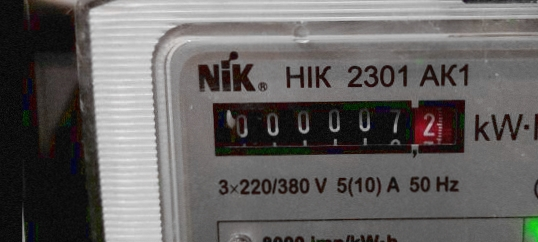0: (294, 108, 312, 135), (264, 110, 281, 138), (233, 112, 250, 139), (356, 105, 372, 133), (326, 106, 341, 133)
2: (421, 110, 437, 139)
7: (386, 107, 402, 136)
screen: (204, 89, 477, 163)
